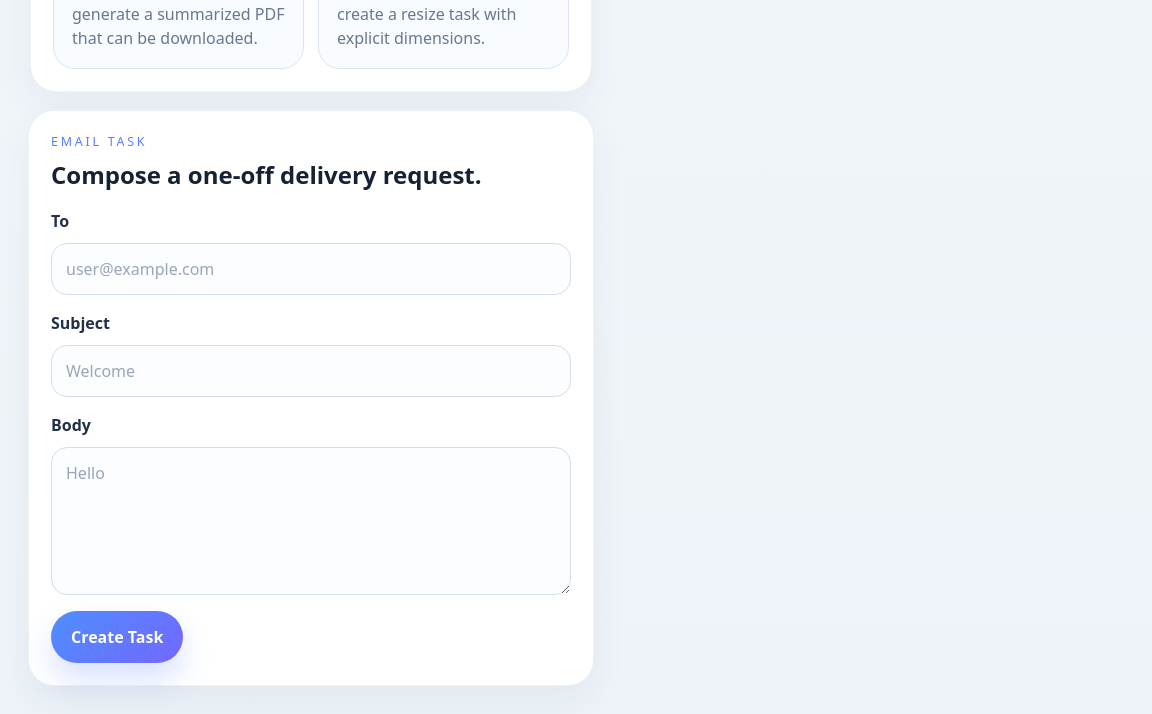
Test: App › shows required validation for send_email fields
(page scrolled)
Click the button "Create Task".
click(117, 637)  # box 51,611 -> 183,663
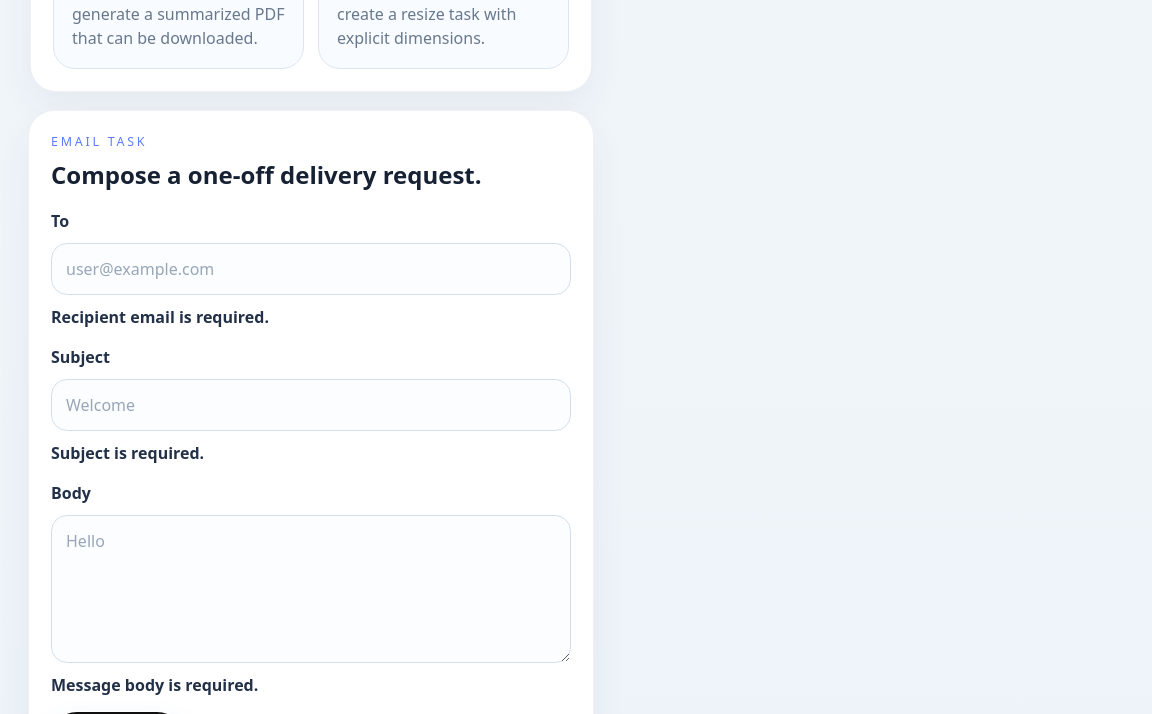
Expected: the text "Recipient email is required." is shown, 51,306 -> 269,328
Expected: the text "Subject is required." is shown, 51,442 -> 204,464
Expected: the text "Message body is required." is shown, 51,674 -> 258,696
